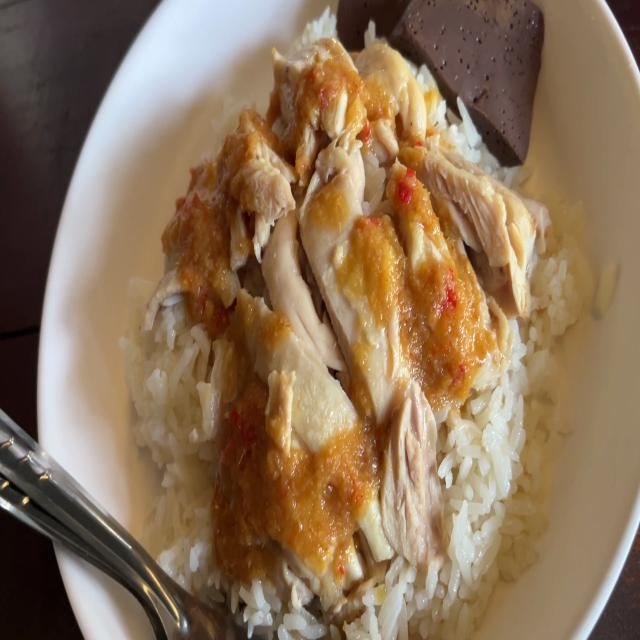boiled_chicken: (167, 40, 495, 566)
boiled_chicken_blood_jelly: (338, 0, 551, 138)
chicken_rice: (126, 0, 596, 640)
